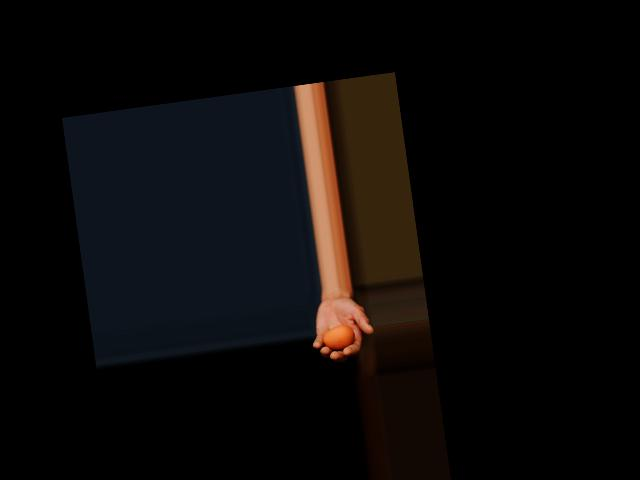egg: (320, 324, 355, 351)
